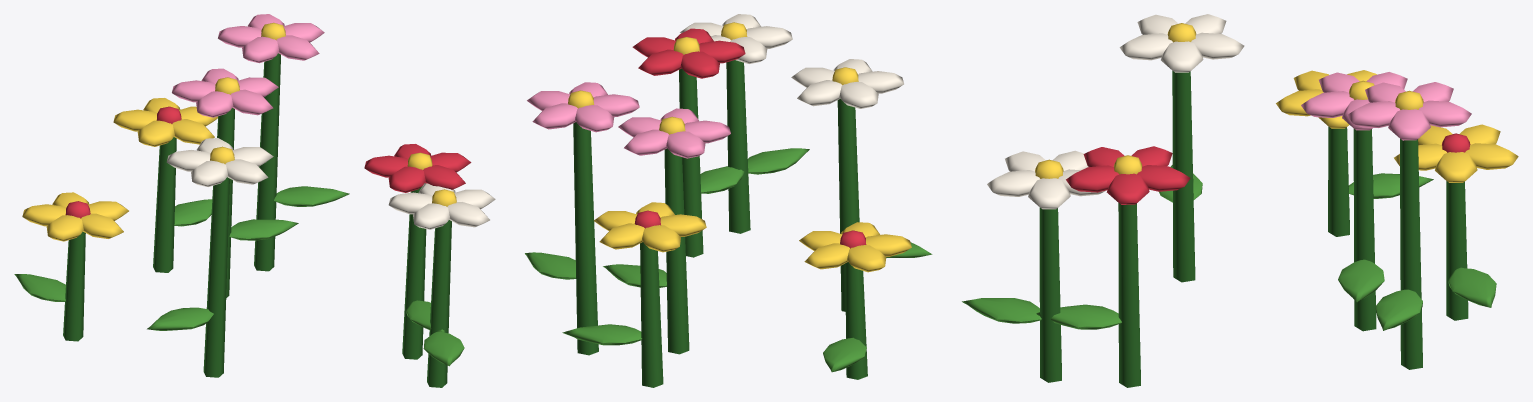
The model's file is FlowerPatch.glb.
3 renders of one model, left to right at view 1: azimuth 30°, elevation 25°; view 2: azimuth 150°, elevation 25°; view 3: azimuth 270°, elevation 25°, orthographic. The views are drawn at different scales.
Visible parts, largest first — view 1: Sway; view 2: Sway; view 3: Sway.
Boxes of the visible parts, left/top/right/bottom form: Sway: left=14, top=14, right=495, bottom=387; Sway: left=525, top=14, right=932, bottom=387; Sway: left=962, top=14, right=1518, bottom=387.
Size of the model in its own units: 1.83 by 1.27 by 2.28.
Materials: 1 (1 with a texture image).
